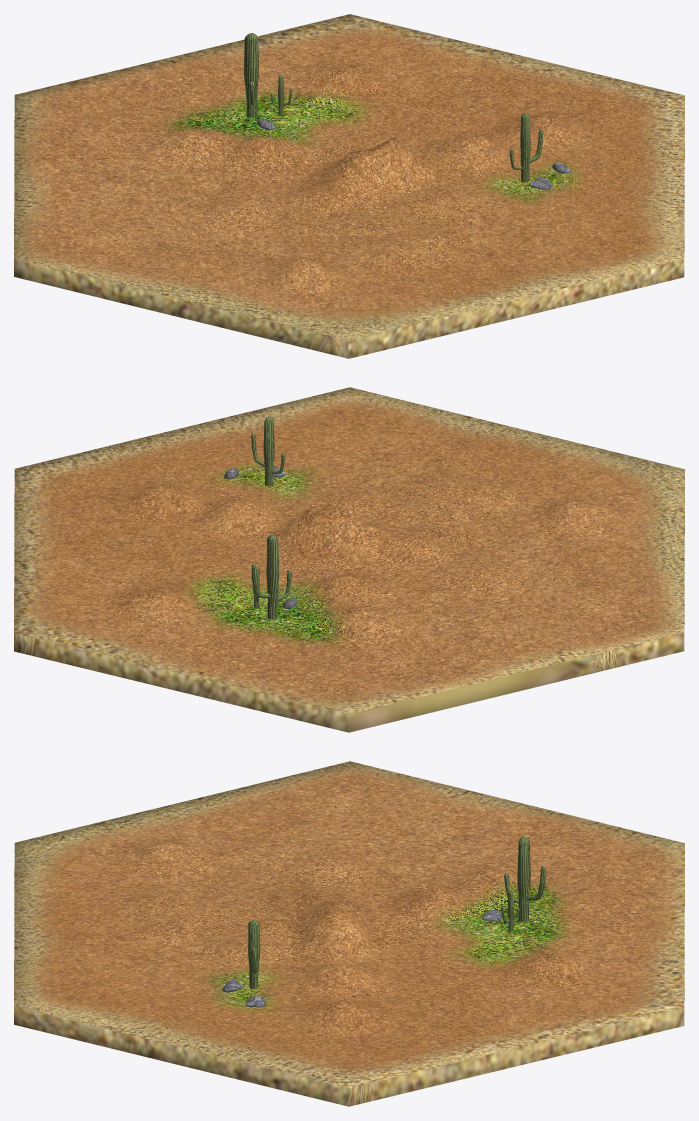
The model's file is orangehex.fbx.
3 renders of one model, top to bottom at view 1: azimuth 30°, elevation 25°; view 2: azimuth 150°, elevation 25°; view 3: azimuth 270°, elevation 25°, orthographic.
Visible parts, largest first — view 1: Hexa, Kaktus2, Kaktus; view 2: Hexa, Kaktus2, Kaktus; view 3: Hexa, Kaktus2, Kaktus.
Part boxes in pixels (x1,y1,x2,y2): Hexa: (14, 14, 684, 358); Kaktus2: (243, 33, 258, 117); Kaktus: (509, 113, 542, 182); Hexa: (14, 387, 684, 732); Kaktus2: (251, 534, 292, 619); Kaktus: (251, 416, 285, 486); Hexa: (14, 761, 684, 1106); Kaktus2: (504, 837, 545, 921); Kaktus: (248, 919, 260, 988).
Bounding box in the file's own units: 24.41 × 3.53 × 21.15.
Materials: 3 (3 with a texture image).
